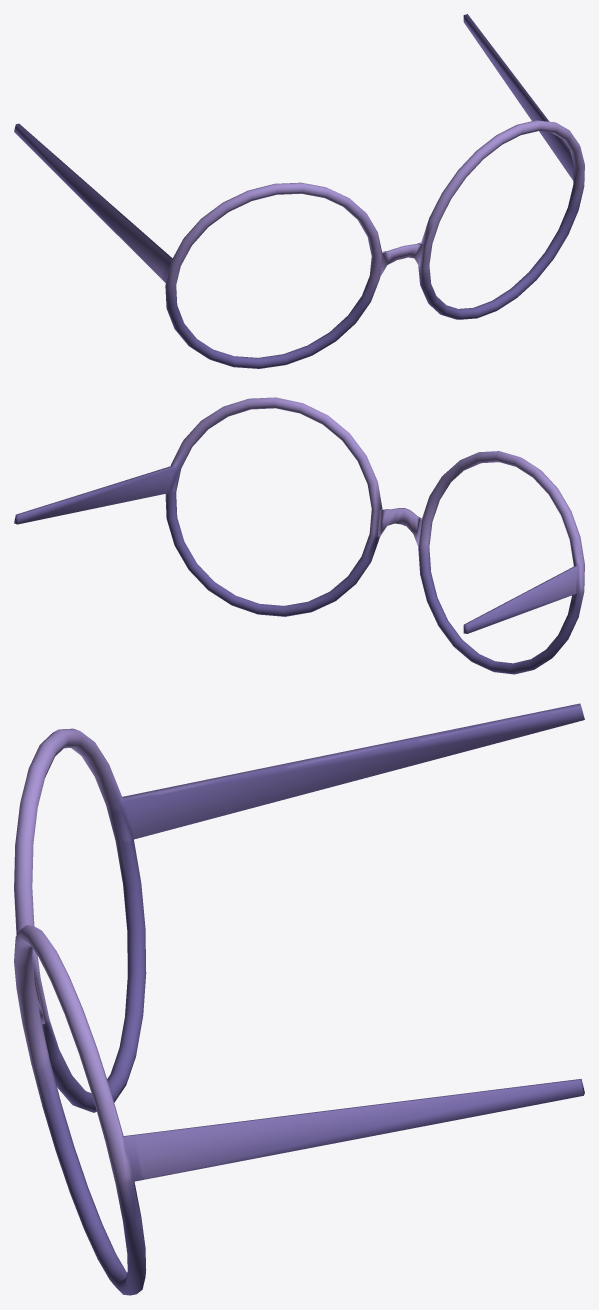
File: glasses.gltf
The picture shows the model from 3 angles, top to bottom: view 1: azimuth 30°, elevation 25°; view 2: azimuth 150°, elevation 25°; view 3: azimuth 270°, elevation 25°; orthographic projection. The views are drawn at different scales.
Visible parts, largest first — view 1: glasses; view 2: glasses; view 3: glasses.
Boxes of the visible parts, x1,y1,x2,y2 form: glasses: (14,14,584,368); glasses: (14,397,584,674); glasses: (14,703,584,1295).
Bounding box in the file's own units: 0.5845 × 0.2465 × 0.372.
Materials: 1 (1 with a texture image).
